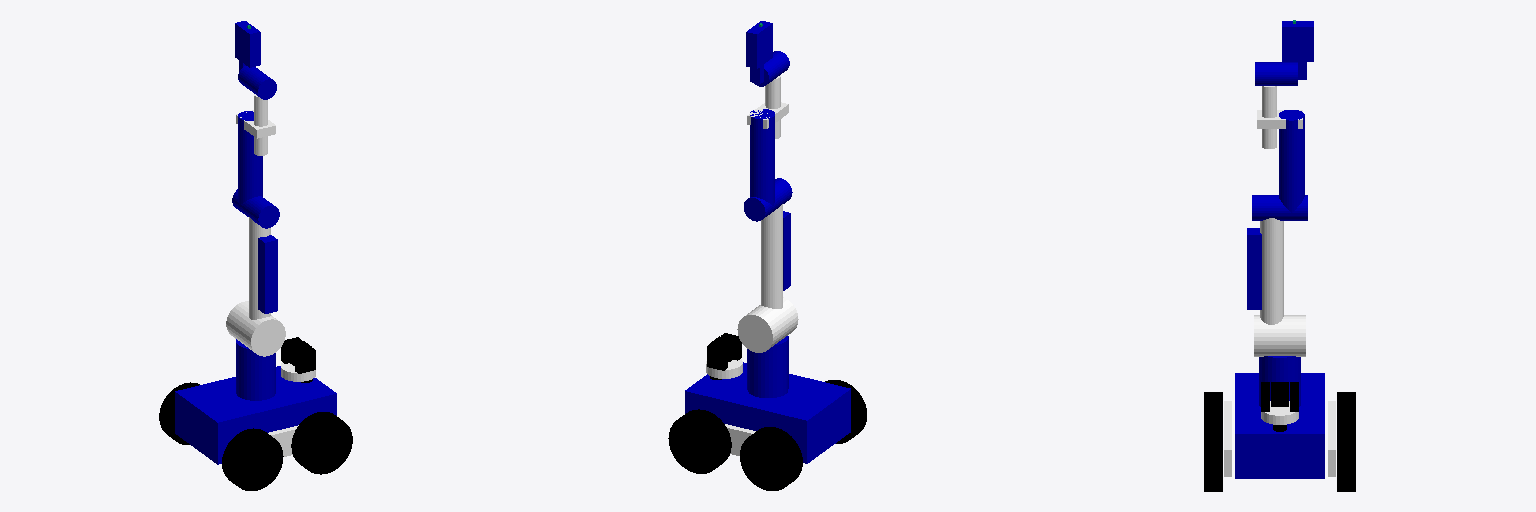
--- Facts derived from the render (not from the file) ---
Views: 3 orthographic renders of the robot side by side, from view 1: azimuth 30°, elevation 25°; view 2: azimuth 150°, elevation 25°; view 3: azimuth 270°, elevation 25°.
Model kv01 with 30 links and 29 joints (8 revolute, 21 fixed), rooted at base_footprint, posed every joint at zero.
Links seen in each view (by area): view 1: base_stabilized, wheel_pp, wheel_pz, model_klb1, model_klb0, link_2_3, menic1_2, link_1_2, menic4_5, model_klb2, link_3_4x, wheel_lz (+1 smaller); view 2: base_stabilized, wheel_lp, wheel_lz, link_2_3, model_klb1, link_1_2, model_klb0, menic4_5, model_klb2, wheel_pz, menic1_2, link_3_4x (+1 smaller); view 3: base_stabilized, link_2_3, link_1_2, model_klb1, menic4_5, wheel_lp, wheel_pp, menic1_2, model_klb0, model_klb2, link_3_4x, link_3_4 (+5 smaller).
Boxes of the visible links, bbox=[...] form: base_stabilized: bbox=[175, 366, 336, 464]; wheel_pp: bbox=[291, 412, 352, 474]; wheel_pz: bbox=[222, 428, 283, 490]; model_klb1: bbox=[226, 301, 285, 356]; model_klb0: bbox=[236, 339, 275, 400]; link_2_3: bbox=[238, 111, 262, 204]; menic1_2: bbox=[258, 235, 277, 313]; link_1_2: bbox=[249, 217, 270, 319]; menic4_5: bbox=[235, 21, 260, 67]; model_klb2: bbox=[232, 189, 279, 228]; link_3_4x: bbox=[238, 66, 276, 99]; wheel_lz: bbox=[159, 382, 199, 444]; base_stabilized: bbox=[685, 362, 850, 463]; wheel_lp: bbox=[668, 409, 731, 473]; wheel_lz: bbox=[740, 427, 802, 490]; link_2_3: bbox=[750, 109, 774, 205]; model_klb1: bbox=[737, 297, 798, 352]; link_1_2: bbox=[761, 204, 782, 308]; model_klb0: bbox=[747, 336, 788, 397]; menic4_5: bbox=[746, 21, 772, 68]; model_klb2: bbox=[744, 178, 792, 221]; wheel_pz: bbox=[825, 380, 866, 443]; menic1_2: bbox=[783, 211, 790, 290]; link_3_4x: bbox=[754, 51, 789, 86]; base_stabilized: bbox=[1235, 373, 1324, 478]; link_2_3: bbox=[1279, 110, 1304, 212]; link_1_2: bbox=[1260, 218, 1283, 324]; model_klb1: bbox=[1254, 315, 1305, 356]; menic4_5: bbox=[1282, 21, 1313, 61]; wheel_lp: bbox=[1337, 427, 1355, 491]; wheel_pp: bbox=[1204, 427, 1222, 491]; menic1_2: bbox=[1247, 228, 1261, 309]; model_klb0: bbox=[1259, 356, 1300, 406]; model_klb2: bbox=[1252, 195, 1307, 220]; link_3_4x: bbox=[1255, 62, 1297, 85]; link_3_4: bbox=[1262, 86, 1276, 148].
Size in the robot's own frame: 0.51 by 0.52 by 1.7 metres.
0 mesh visuals loaded from 1 distinct referenced files (none loaded); not drawn: 2 (reference not matched to a file when rendering).

The robot description file, URDF, robot "kv01":
<?xml version="1.0" ?>
<!-- =================================================================================== -->
<!-- |    This document was autogenerated by xacro from kv01.xacro                     | -->
<!-- |    EDITING THIS FILE BY HAND IS NOT RECOMMENDED                                 | -->
<!-- =================================================================================== -->
<!--> 
Vytvorenie base framu a celej zakladne
</!-->
<robot name="kv01" xmlns:controller="http://playerstage.sourceforge.net/gazebo/xmlschema/#controller" xmlns:interface="http://playerstage.sourceforge.net/gazebo/xmlschema/#interface" xmlns:sensor="http://playerstage.sourceforge.net/gazebo/xmlschema/#sensor" xmlns:xacro="http://www.ros.org/wiki/xacro">
  <package>
    <depend package="collada_urdf"/>
  </package>
  <material name="Black">
    <color rgba="0.0 0.0 0.0 1.0"/>
  </material>
  <material name="Blue">
    <color rgba="0.0 0.0 0.8 1.0"/>
  </material>
  <material name="Green">
    <color rgba="0.0 0.8 0.0 1.0"/>
  </material>
  <material name="Grey">
    <color rgba="0.2 0.2 0.2 1.0"/>
  </material>
  <material name="White">
    <color rgba="1.0 1.0 1.0 1.0"/>
  </material>
  <gazebo>
    <plugin filename="libgazebo_ros_control.so" name="gazebo_ros_control">
      <robotNamespace>/kv01</robotNamespace>
    </plugin>
  </gazebo>
  <gazebo reference="frame_to_world">
    <mu1>0.5</mu1>
    <mu2>0.5</mu2>
    <turnGravityOff>false</turnGravityOff>
    <material>Gazebo/Black</material>
  </gazebo>
  <gazebo reference="base_stabilized">
    <mu1>0.5</mu1>
    <mu2>0.5</mu2>
    <turnGravityOff>false</turnGravityOff>
    <material>Gazebo/Blue</material>
  </gazebo>
  <gazebo reference="scan">
    <mu1>0.5</mu1>
    <mu2>0.5</mu2>
    <turnGravityOff>false</turnGravityOff>
    <material>Gazebo/Black</material>
  </gazebo>
  <gazebo reference="camera_l">
    <mu1>0.5</mu1>
    <mu2>0.5</mu2>
    <turnGravityOff>false</turnGravityOff>
    <material>Gazebo/Black</material>
  </gazebo>
  <gazebo reference="camera_r">
    <mu1>0.5</mu1>
    <mu2>0.5</mu2>
    <turnGravityOff>false</turnGravityOff>
    <material>Gazebo/Black</material>
  </gazebo>
  <gazebo reference="camera">
    <mu1>0.5</mu1>
    <mu2>0.5</mu2>
    <turnGravityOff>false</turnGravityOff>
    <material>Gazebo/Black</material>
  </gazebo>
  <gazebo reference="veza">
    <mu1>0.5</mu1>
    <mu2>0.5</mu2>
    <turnGravityOff>false</turnGravityOff>
    <material>Gazebo/White</material>
  </gazebo>
  <gazebo reference="wheel_lp">
    <mu1>0.5</mu1>
    <mu2>0.5</mu2>
    <turnGravityOff>false</turnGravityOff>
    <material>Gazebo/Black</material>
  </gazebo>
  <gazebo reference="wheel_lz">
    <mu1>0.5</mu1>
    <mu2>0.5</mu2>
    <turnGravityOff>false</turnGravityOff>
    <material>Gazebo/Black</material>
  </gazebo>
  <gazebo reference="wheel_pp">
    <mu1>0.5</mu1>
    <mu2>0.5</mu2>
    <turnGravityOff>false</turnGravityOff>
    <material>Gazebo/Black</material>
  </gazebo>
  <gazebo reference="wheel_pz">
    <mu1>0.5</mu1>
    <mu2>0.5</mu2>
    <turnGravityOff>false</turnGravityOff>
    <material>Gazebo/Black</material>
  </gazebo>
  <!--> Gadzebo definicia ramena</!-->
  <gazebo reference="model_klb0">
    <mu1>0.5</mu1>
    <mu2>0.5</mu2>
    <turnGravityOff>false</turnGravityOff>
    <material>Gazebo/Blue</material>
  </gazebo>
  <gazebo reference="model_klb1">
    <mu1>0.5</mu1>
    <mu2>0.5</mu2>
    <turnGravityOff>false</turnGravityOff>
    <material>Gazebo/White</material>
  </gazebo>
  <gazebo reference="link_1_2">
    <mu1>0.5</mu1>
    <mu2>0.5</mu2>
    <turnGravityOff>false</turnGravityOff>
    <material>Gazebo/White</material>
  </gazebo>
  <gazebo reference="menic1_2">
    <mu1>0.5</mu1>
    <mu2>0.5</mu2>
    <turnGravityOff>false</turnGravityOff>
    <material>Gazebo/Blue</material>
  </gazebo>
  <gazebo reference="model_klb2">
    <mu1>0.5</mu1>
    <mu2>0.5</mu2>
    <turnGravityOff>false</turnGravityOff>
    <material>Gazebo/Blue</material>
  </gazebo>
  <gazebo reference="link_2_3">
    <mu1>0.5</mu1>
    <mu2>0.5</mu2>
    <turnGravityOff>false</turnGravityOff>
    <material>Gazebo/Blue</material>
  </gazebo>
  <gazebo reference="model_klb3">
    <mu1>0.5</mu1>
    <mu2>0.5</mu2>
    <turnGravityOff>false</turnGravityOff>
    <material>Gazebo/Blue</material>
  </gazebo>
  <gazebo reference="link_3_4">
    <mu1>0.5</mu1>
    <mu2>0.5</mu2>
    <turnGravityOff>false</turnGravityOff>
    <material>Gazebo/White</material>
  </gazebo>
  <gazebo reference="link_3_4x">
    <mu1>0.5</mu1>
    <mu2>0.5</mu2>
    <turnGravityOff>false</turnGravityOff>
    <material>Gazebo/Blue</material>
  </gazebo>
  <gazebo reference="model_klb4">
    <mu1>0.5</mu1>
    <mu2>0.5</mu2>
    <turnGravityOff>false</turnGravityOff>
    <material>Gazebo/Blue</material>
  </gazebo>
  <gazebo reference="menic4_5">
    <mu1>0.5</mu1>
    <mu2>0.5</mu2>
    <turnGravityOff>false</turnGravityOff>
    <material>Gazebo/Blue</material>
  </gazebo>
  <gadzebo reference="camera_r_to_camera">
    <erp>0.1</erp>
    <stopKd value="1000000.0"/>
    <stopKp value="10000.0"/>
    <fudgeFactor value="0.3"/>
    <implicitSpringDamper>true</implicitSpringDamper>
  </gadzebo>
  <gadzebo reference="scan_to_veza">
    <erp>0.1</erp>
    <stopKd value="1000000.0"/>
    <stopKp value="10000.0"/>
    <fudgeFactor value="0.3"/>
    <implicitSpringDamper>true</implicitSpringDamper>
  </gadzebo>
  <gadzebo reference="klb0">
    <erp>0.1</erp>
    <stopKd value="1000000.0"/>
    <stopKp value="10000.0"/>
    <fudgeFactor value="0.3"/>
    <implicitSpringDamper>true</implicitSpringDamper>
  </gadzebo>
  <gadzebo reference="klb1">
    <erp>0.1</erp>
    <stopKd value="1000000.0"/>
    <stopKp value="10000.0"/>
    <fudgeFactor value="0.3"/>
    <implicitSpringDamper>true</implicitSpringDamper>
  </gadzebo>
  <gadzebo reference="klb2">
    <erp>0.1</erp>
    <stopKd value="1000000.0"/>
    <stopKp value="10000.0"/>
    <fudgeFactor value="0.3"/>
    <implicitSpringDamper>true</implicitSpringDamper>
  </gadzebo>
  <gadzebo reference="klb3">
    <erp>0.1</erp>
    <stopKd value="1000000.0"/>
    <stopKp value="10000.0"/>
    <fudgeFactor value="0.3"/>
    <implicitSpringDamper>true</implicitSpringDamper>
  </gadzebo>
  <gadzebo reference="klb4">
    <erp>0.1</erp>
    <stopKd value="1000000.0"/>
    <stopKp value="10000.0"/>
    <fudgeFactor value="0.3"/>
    <implicitSpringDamper>true</implicitSpringDamper>
  </gadzebo>
  <gadzebo reference="klb5">
    <erp>0.1</erp>
    <stopKd value="1000000.0"/>
    <stopKp value="10000.0"/>
    <fudgeFactor value="0.3"/>
    <implicitSpringDamper>true</implicitSpringDamper>
  </gadzebo>
  <link name="base_footprint">
    <origin xyz="0 0 0"/>
  </link>
  <joint name="footprint_to_base" type="fixed">
    <origin xyz="0 0 0.13"/>
    <parent link="base_footprint"/>
    <child link="base_link"/>
  </joint>
  <link name="base_link"/>
  <joint name="base_to_stabilizer" type="fixed">
    <origin xyz="0 0 0"/>
    <parent link="base_link"/>
    <child link="base_stabilized"/>
  </joint>
  <link name="base_stabilized">
    <visual>
      <geometry>
        <box size="0.5 .31 .168"/>
      </geometry>
      <origin xyz="0 0 0"/>
      <material name="modra">
        <color rgba="0 0 0.8 1"/>
      </material>
    </visual>
    <inertial>
      <mass value="10"/>
      <inertia ixx="0.1" ixy="0.0" ixz="0.0" iyy="0.1" iyz="0.0" izz="0.1"/>
    </inertial>
    <collision>
      <geometry>
        <box size="0.5 .31 .30"/>
      </geometry>
      <origin xyz="0 0 0.08"/>
    </collision>
  </link>
  <joint name="stabilizer_to_imu" type="fixed">
    <origin xyz="-0.1 0.1 -0.01"/>
    <parent link="base_stabilized"/>
    <child link="imu"/>
  </joint>
  <link name="imu"/>
  <link name="laser">
    <visual>
      <geometry>
        <cylinder length="0.03" radius="0.025"/>
      </geometry>
      <material name="cierna">
        <color rgba="0 0 0 1"/>
      </material>
    </visual>
    <inertial>
      <mass value="0.1"/>
      <inertia ixx="0.1" ixy="0.0" ixz="0.0" iyy="0.1" iyz="0.0" izz="0.1"/>
    </inertial>
  </link>
  <joint name="base_to_scan" type="fixed">
    <parent link="base_stabilized"/>
    <child link="laser"/>
    <origin xyz="0.2075 0 0.095"/>
  </joint>
  <link name="veza">
    <visual>
      <geometry>
        <cylinder length="0.035" radius="0.065"/>
      </geometry>
      <material name="biela">
        <color rgba="1 1 1 1"/>
      </material>
    </visual>
    <inertial>
      <mass value="0.3"/>
      <inertia ixx="0.1" ixy="0.0" ixz="0.0" iyy="0.1" iyz="0.0" izz="0.1"/>
    </inertial>
  </link>
  <joint name="scan_to_veza" type="revolute">
    <parent link="laser"/>
    <child link="veza"/>
    <origin xyz="-0.03 0 0.0375"/>
    <axis xyz="0 0 1"/>
    <limit effort="30.0" lower="-2.09439" upper="3.14159" velocity="0.5"/>
  </joint>
  <link name="camera_l">
    <visual>
      <geometry>
        <box size="0.07 .03 .08"/>
      </geometry>
      <material name="cierna"/>
    </visual>
    <inertial>
      <mass value="0.1"/>
      <inertia ixx="0.1" ixy="0.0" ixz="0.0" iyy="0.1" iyz="0.0" izz="0.1"/>
    </inertial>
  </link>
  <joint name="veza_to_camera_l" type="fixed">
    <parent link="veza"/>
    <child link="camera_l"/>
    <origin xyz="0 0.05 0.0575"/>
  </joint>
  <link name="camera_r">
    <visual>
      <geometry>
        <box size="0.07 .03 .08"/>
      </geometry>
      <material name="cierna"/>
    </visual>
    <inertial>
      <mass value="0.1"/>
      <inertia ixx="0.1" ixy="0.0" ixz="0.0" iyy="0.1" iyz="0.0" izz="0.1"/>
    </inertial>
  </link>
  <joint name="veza_to_camera_r" type="fixed">
    <parent link="veza"/>
    <child link="camera_r"/>
    <origin xyz="0 -0.05 0.0575"/>
  </joint>
  <link name="camera">
    <visual>
      <geometry>
        <box size="0.075 .06 .06"/>
      </geometry>
      <material name="cierna"/>
    </visual>
    <inertial>
      <mass value="0.4"/>
      <inertia ixx="0.1" ixy="0.0" ixz="0.0" iyy="0.1" iyz="0.0" izz="0.1"/>
    </inertial>
  </link>
  <joint name="camera_r_to_camera" type="revolute">
    <limit effort="30.0" lower="-0.523598" upper="1.570795" velocity="0.5"/>
    <parent link="camera_r"/>
    <child link="camera"/>
    <origin rpy=" 1.570795 0 0" xyz="0 0.05 0.01"/>
    <axis xyz="0 0 1"/>
  </joint>
  <link name="wheel_frame_l">
    <visual>
      <geometry>
        <box size="0.4 .025 .1"/>
      </geometry>
      <material name="biela"/>
    </visual>
    <inertial>
      <mass value="1.3"/>
      <inertia ixx="0.1" ixy="0.0" ixz="0.0" iyy="0.1" iyz="0.0" izz="0.1"/>
    </inertial>
  </link>
  <joint name="base_link_to_wheel_frame_l" type="fixed">
    <parent link="base_stabilized"/>
    <child link="wheel_frame_l"/>
    <origin xyz="0 +0.1775 -0.05"/>
    <axis xyz="0 1 0"/>
  </joint>
  <link name="wheel_frame_r">
    <visual>
      <geometry>
        <box size="0.4 .025 .1"/>
      </geometry>
      <material name="biela"/>
    </visual>
    <inertial>
      <mass value="1.3"/>
      <inertia ixx="0.1" ixy="0.0" ixz="0.0" iyy="0.1" iyz="0.0" izz="0.1"/>
    </inertial>
  </link>
  <joint name="base_link_to_wheel_frame_r" type="fixed">
    <parent link="base_stabilized"/>
    <child link="wheel_frame_r"/>
    <origin xyz="0 -0.1775 -0.05"/>
    <axis xyz="0 1 0"/>
  </joint>
  <link name="wheel_lp">
    <visual>
      <geometry>
        <cylinder length="0.065" radius="0.11"/>
      </geometry>
      <material name="cierna"/>
    </visual>
    <inertial>
      <mass value="0.5"/>
      <inertia ixx="0.1" ixy="0.0" ixz="0.0" iyy="0.1" iyz="0.0" izz="0.1"/>
    </inertial>
    <collision>
      <geometry>
        <cylinder length="0.065" radius="0.11"/>
      </geometry>
    </collision>
  </link>
  <joint name="wheel_frame_l_to_wheel_lp" type="fixed">
    <parent link="wheel_frame_l"/>
    <child link="wheel_lp"/>
    <origin rpy=" 1.570795 0 0" xyz="0.145 0.05 -0.01"/>
    <axis xyz="0 0 1"/>
  </joint>
  <link name="wheel_lz">
    <visual>
      <geometry>
        <cylinder length="0.065" radius="0.11"/>
      </geometry>
      <material name="cierna"/>
    </visual>
    <inertial>
      <mass value="0.5"/>
      <inertia ixx="0.1" ixy="0.0" ixz="0.0" iyy="0.1" iyz="0.0" izz="0.1"/>
    </inertial>
    <collision>
      <geometry>
        <cylinder length="0.065" radius="0.11"/>
      </geometry>
    </collision>
  </link>
  <joint name="wheel_frame_l_to_wheel_lz" type="fixed">
    <parent link="wheel_frame_l"/>
    <child link="wheel_lz"/>
    <origin rpy=" 1.570795 0 0" xyz="-0.145 0.05 -0.01"/>
    <axis xyz="0 0 1"/>
  </joint>
  <link name="wheel_pp">
    <visual>
      <geometry>
        <cylinder length="0.065" radius="0.11"/>
      </geometry>
      <material name="cierna"/>
    </visual>
    <inertial>
      <mass value="0.5"/>
      <inertia ixx="0.1" ixy="0.0" ixz="0.0" iyy="0.1" iyz="0.0" izz="0.1"/>
    </inertial>
    <collision>
      <geometry>
        <cylinder length="0.065" radius="0.11"/>
      </geometry>
    </collision>
  </link>
  <joint name="wheel_frame_r_to_wheel_pp" type="fixed">
    <parent link="wheel_frame_r"/>
    <child link="wheel_pp"/>
    <origin rpy=" 1.570795 0 0" xyz="0.145 -0.05 -0.01"/>
    <axis xyz="0 0 1"/>
  </joint>
  <link name="wheel_pz">
    <visual>
      <geometry>
        <cylinder length="0.065" radius="0.11"/>
      </geometry>
      <material name="cierna"/>
    </visual>
    <inertial>
      <mass value="0.5"/>
      <inertia ixx="0.1" ixy="0.0" ixz="0.0" iyy="0.1" iyz="0.0" izz="0.1"/>
    </inertial>
    <collision>
      <geometry>
        <cylinder length="0.065" radius="0.11"/>
      </geometry>
    </collision>
  </link>
  <joint name="wheel_frame_r_to_wheel_pz" type="fixed">
    <parent link="wheel_frame_r"/>
    <child link="wheel_pz"/>
    <origin rpy=" 1.570795 0 0" xyz="-0.145 -0.05 -0.01"/>
    <axis xyz="0 0 1"/>
  </joint>
  <!--> 
Cast ramena pripojena k podvozku nadvazuje na base frame zakladne ... obmedzenia klbov aj linkou su predimenzovane klby su znizene pohybovo o 15 stupnov
</!-->
  <joint name="klb0" type="revolute">
    <limit effort="50" lower="-1.75" upper="1.75" velocity="0.2"/>
    <parent link="base_stabilized"/>
    <child link="model_klb0"/>
    <origin rpy="0 0 0" xyz="0 0 .08"/>
    <axis xyz="0 0 1"/>
    <dynamics damping="1" fricction="1"/>
  </joint>
  <link name="model_klb0">
    <visual>
      <geometry>
        <cylinder length="0.258" radius="0.0725"/>
      </geometry>
      <material name="modra"/>
      <origin rpy="0 0 0" xyz="0 0 0.08"/>
    </visual>
    <inertial>
      <mass value="0.8"/>
      <inertia ixx="1" ixy="0.0" ixz="0.0" iyy="1" iyz="0.0" izz="1"/>
    </inertial>
  </link>
  <joint name="klb1" type="revolute">
    <limit effort="100" lower="-1.4" upper="1.4" velocity="0.2"/>
    <parent link="model_klb0"/>
    <child link="model_klb1"/>
    <origin rpy="1.570795 0 0" xyz="0 0 .258"/>
    <axis xyz="0 0 -1"/>
    <dynamics damping="1" fricction="1"/>
  </joint>
  <link name="model_klb1">
    <visual>
      <geometry>
        <cylinder length="0.180" radius="0.0725"/>
      </geometry>
      <material name="biela"/>
      <origin rpy="0 0 0" xyz="0 0 0"/>
    </visual>
    <collision>
      <geometry>
        <cylinder length="0.180" radius="0.0725"/>
      </geometry>
      <origin rpy="0 0 0" xyz="0 0 0"/>
    </collision>
    <inertial>
      <mass value="0.8"/>
      <inertia ixx="1" ixy="0.0" ixz="0.0" iyy="1" iyz="0.0" izz="1"/>
    </inertial>
  </link>
  <joint name="spoj_klb1_klb2" type="fixed">
    <parent link="model_klb1"/>
    <child link="link_1_2"/>
    <origin rpy="-1.570795 0 0" xyz="0 0.2425 0.028"/>
  </joint>
  <link name="link_1_2">
    <visual>
      <geometry>
        <cylinder length="0.485" radius="0.040"/>
      </geometry>
      <material name="biela"/>
      <origin rpy="0 0 0" xyz="0 0 0"/>
    </visual>
    <collision>
      <geometry>
        <cylinder length="0.330" radius="0.070"/>
      </geometry>
      <origin rpy="0 0 0" xyz="0 -0.025 0.01"/>
    </collision>
    <inertial>
      <mass value="0.8"/>
      <inertia ixx="0.1" ixy="0.0" ixz="0.0" iyy="0.1" iyz="0.0" izz="0.1"/>
    </inertial>
  </link>
  <joint name="spoj_klb1_klb2_menic" type="fixed">
    <parent link="model_klb1"/>
    <child link="menic1_2"/>
    <origin rpy="-1.570795 0 0" xyz="0 0.2425 0.088"/>
  </joint>
  <link name="menic1_2">
    <visual>
      <geometry>
        <box size="0.055 0.050 .285"/>
      </geometry>
      <material name="modra"/>
      <origin rpy="0 0 0" xyz="0 0 0.010"/>
    </visual>
    <inertial>
      <mass value="0.4"/>
      <inertia ixx="0.1" ixy="0.0" ixz="0.0" iyy="0.1" iyz="0.0" izz="0.1"/>
    </inertial>
  </link>
  <joint name="klb2" type="revolute">
    <limit effort="50" lower="-2.01" upper="2.01" velocity="0.3"/>
    <parent link="model_klb1"/>
    <child link="model_klb2"/>
    <origin rpy="0 0 0" xyz="0 0.485 0"/>
    <axis xyz="0 0 1"/>
    <dynamics damping="1" fricction="1"/>
  </joint>
  <link name="model_klb2">
    <visual>
      <geometry>
        <cylinder length="0.190" radius="0.045"/>
      </geometry>
      <material name="modra"/>
      <origin rpy="0 0 0" xyz="0 0 0"/>
    </visual>
    <collision>
      <geometry>
        <cylinder length="0.195" radius="0.050"/>
      </geometry>
      <origin rpy="0 0 0" xyz="0 0 0"/>
    </collision>
    <inertial>
      <mass value="0.45"/>
      <inertia ixx="1" ixy="0.0" ixz="0.0" iyy="1" iyz="0.0" izz="1"/>
    </inertial>
  </link>
  <joint name="spoj_klb2_klb3" type="fixed">
    <parent link="model_klb2"/>
    <child link="link_2_3"/>
    <origin rpy="-1.570795 0 0" xyz="0 0 -0.040"/>
  </joint>
  <link name="link_2_3">
    <visual>
      <geometry>
        <cylinder length="0.350" radius="0.045"/>
      </geometry>
      <material name="modra"/>
      <origin rpy="0 0 0" xyz="0. 0 0.175"/>
    </visual>
    <collision>
      <geometry>
        <cylinder length="0.155" radius="0.045"/>
      </geometry>
      <origin rpy="0 0 0" xyz="0.015 0 0.135"/>
    </collision>
    <inertial>
      <mass value="0.6"/>
      <inertia ixx="0.1" ixy="0.0" ixz="0.0" iyy="0.1" iyz="0.0" izz="0.1"/>
    </inertial>
  </link>
  <joint name="klb3" type="revolute">
    <limit effort="50" lower="-3.14" upper="3.14" velocity="0.2"/>
    <parent link="model_klb2"/>
    <child link="model_klb3"/>
    <origin rpy="-1.570795 0 0" xyz="0 0.350 -0.040 "/>
    <axis xyz="0 0 -1"/>
    <dynamics damping="1" fricction="1"/>
  </joint>
  <link name="model_klb3">
    <visual>
      <geometry>
        <box size="0.080 .155 .035"/>
      </geometry>
      <material name="biela"/>
      <origin rpy="0 0 0" xyz="0 -0.040  -0.0175"/>
    </visual>
    <collision>
      <geometry>
        <cylinder length="0.120" radius="0.040"/>
      </geometry>
      <origin rpy=" 0 0 0" xyz="0 0 -0.055"/>
    </collision>
    <inertial>
      <mass value="0.2"/>
      <inertia ixx="1" ixy="0.0" ixz="0.0" iyy="1" iyz="0.0" izz="1"/>
    </inertial>
  </link>
  <joint name="spoj_klb4_klb5" type="fixed">
    <parent link="model_klb3"/>
    <child link="link_3_4"/>
    <origin rpy="3.14159 0 0" xyz="0 -0.076 0"/>
  </joint>
  <link name="link_3_4">
    <visual>
      <geometry>
        <cylinder length="0.2345" radius="0.027"/>
      </geometry>
      <material name="biela"/>
      <origin rpy="0 0 0" xyz="0 0 0"/>
    </visual>
    <collision>
      <geometry>
        <cylinder length="0.2335" radius="0.027"/>
      </geometry>
      <origin rpy="0 0 0" xyz="0 0 0.005"/>
    </collision>
    <inertial>
      <mass value="0.45"/>
      <inertia ixx="0.1" ixy="0.0" ixz="0.0" iyy="0.1" iyz="0.0" izz="0.1"/>
    </inertial>
  </link>
  <joint name="spoj_klb3_klb4x" type="fixed">
    <parent link="model_klb3"/>
    <child link="link_3_4x"/>
    <origin rpy="1.570795 0 0" xyz="0 -0.052 0.155"/>
  </joint>
  <link name="link_3_4x">
    <visual>
      <geometry>
        <cylinder length="0.145" radius="0.040"/>
      </geometry>
      <material name="modra"/>
      <origin rpy="0 0 0" xyz="0 0 0"/>
    </visual>
    <collision>
      <geometry>
        <cylinder length="0.145" radius="0.040"/>
      </geometry>
      <origin rpy="0 0 0" xyz="0 0 0"/>
    </collision>
    <inertial>
      <mass value="0.3"/>
      <inertia ixx="0.1" ixy="0.0" ixz="0.0" iyy="0.1" iyz="0.0" izz="0.1"/>
    </inertial>
  </link>
  <joint name="klb4" type="revolute">
    <limit effort="40" lower="-2.09" upper="2.09" velocity="0.2"/>
    <parent link="model_klb3"/>
    <child link="model_klb4"/>
    <origin rpy="1.570795 0 0" xyz="0 0.036 0.155"/>
    <axis xyz="0 0 1"/>
    <dynamics damping="1" fricction="1"/>
  </joint>
  <link name="model_klb4">
    <visual>
      <geometry>
        <box size="0.040 0.030 0.080"/>
      </geometry>
      <material name="modra"/>
      <origin rpy="-1.570795 0 0" xyz="0 0.025 0"/>
    </visual>
    <collision>
      <geometry>
        <box size="0.040 0.030 0.075"/>
      </geometry>
      <origin rpy="-1.570795 0 0" xyz="0 0 0"/>
    </collision>
    <inertial>
      <mass value="0.08"/>
      <inertia ixx="1" ixy="0.0" ixz="0.0" iyy="1" iyz="0.0" izz="1"/>
    </inertial>
  </link>
  <joint name="spoj_menic4_5_gripper" type="fixed">
    <parent link="model_klb4"/>
    <child link="menic4_5"/>
    <origin rpy="-1.570795 0 0" xyz="0 0.055 0.015 "/>
  </joint>
  <link name="menic4_5">
    <visual>
      <geometry>
        <box size="0.045 0.110 0.135"/>
      </geometry>
      <material name="modra"/>
      <origin rpy="0 0 0" xyz="0 0 0.0675"/>
    </visual>
    <collision>
      <geometry>
        <box size="0.045 0.110 0.135"/>
      </geometry>
      <origin rpy="0 0 0" xyz="0 0 0.0675"/>
    </collision>
    <inertial>
      <mass value="0.2"/>
      <inertia ixx="0.1" ixy="0.0" ixz="0.0" iyy="0.1" iyz="0.0" izz="0.1"/>
    </inertial>
  </link>
  <joint name="klb5" type="revolute">
    <limit effort="40" lower="-3.14" upper="3.14" velocity="0.2"/>
    <parent link="model_klb4"/>
    <child link="model_klb5"/>
    <origin rpy="-1.570795  0 0" xyz="0 0.190 0.025"/>
    <axis xyz="0 0 -1"/>
    <dynamics damping="1" fricction="1"/>
  </joint>
  <link name="model_klb5">
    <visual>
      <geometry>
        <box size="0.01 0.01 0.01"/>
      </geometry>
      <origin rpy="0 0 0" xyz="0 0 0.005"/>
    </visual>
    <collision>
      <geometry>
        <box size="0.030 0.165 0.135"/>
      </geometry>
      <origin rpy="0 0 0" xyz="0 0 0.070"/>
    </collision>
    <inertial>
      <mass value="0.2"/>
      <inertia ixx="0.1" ixy="0.0" ixz="0.0" iyy="0.1" iyz="0.0" izz="0.1"/>
    </inertial>
  </link>
  <joint name="uchopovacL" type="fixed">
    <parent link="model_klb5"/>
    <child link="uchopenie_lavo"/>
    <origin rpy="0 0 1.570795" xyz="0 0 0.02"/>
  </joint>
  <joint name="uchopovacR" type="fixed">
    <parent link="model_klb5"/>
    <child link="uchopenie_pravo"/>
    <origin rpy="0 0 1.570795" xyz="0 0 0.02"/>
  </joint>
  <joint name="centrum_uchopu" type="fixed">
    <parent link="model_klb5"/>
    <child link="gripper_end"/>
    <origin rpy="0 0 0" xyz="0 0 0.07"/>
  </joint>
  <link name="uchopenie_lavo">
    <visual>
      <geometry>
        <mesh filename="package://pr2_description/meshes/gripper_v0/l_finger.dae"/>
      </geometry>
      <origin rpy="1.570795 -1.570795 0"/>
    </visual>
    <inertial>
      <mass value="0.05"/>
      <inertia ixx="0.1" ixy="0.0" ixz="0.0" iyy="0.1" iyz="0.0" izz="0.1"/>
    </inertial>
  </link>
  <link name="uchopenie_pravo">
    <visual>
      <geometry>
        <mesh filename="package://pr2_description/meshes/gripper_v0/l_finger.dae"/>
      </geometry>
      <origin rpy="1.570795 -1.570795 3.14159"/>
    </visual>
    <inertial>
      <mass value="0.05"/>
      <inertia ixx="0.1" ixy="0.0" ixz="0.0" iyy="0.1" iyz="0.0" izz="0.1"/>
    </inertial>
  </link>
  <link name="gripper_end">
    <origin rpy="0 0 0" xyz="0 0 0"/>
  </link>
  <transmission name="tran1">
    <type>transmission_interface/SimpleTransmission</type>
    <joint name="klb0">
      <hardwareInterface>EffortJointInterface</hardwareInterface>
    </joint>
    <actuator name="motor1">
      <hardwareInterface>EffortJointInterface</hardwareInterface>
      <mechanicalReduction>3682</mechanicalReduction>
    </actuator>
  </transmission>
  <transmission name="tran2">
    <type>transmission_interface/SimpleTransmission</type>
    <joint name="klb1">
      <hardwareInterface>EffortJointInterface</hardwareInterface>
    </joint>
    <actuator name="motor2">
      <hardwareInterface>EffortJointInterface</hardwareInterface>
      <mechanicalReduction>2547</mechanicalReduction>
    </actuator>
  </transmission>
  <transmission name="tran3">
    <type>transmission_interface/SimpleTransmission</type>
    <joint name="klb2">
      <hardwareInterface>EffortJointInterface</hardwareInterface>
    </joint>
    <actuator name="motor3">
      <hardwareInterface>EffortJointInterface</hardwareInterface>
      <mechanicalReduction>8178</mechanicalReduction>
    </actuator>
  </transmission>
  <transmission name="tran4">
    <type>transmission_interface/SimpleTransmission</type>
    <joint name="klb3">
      <hardwareInterface>EffortJointInterface</hardwareInterface>
    </joint>
    <actuator name="motor4">
      <hardwareInterface>EffortJointInterface</hardwareInterface>
      <mechanicalReduction>6083.64</mechanicalReduction>
    </actuator>
  </transmission>
  <transmission name="tran5">
    <type>transmission_interface/SimpleTransmission</type>
    <joint name="klb4">
      <hardwareInterface>EffortJointInterface</hardwareInterface>
    </joint>
    <actuator name="motor5">
      <hardwareInterface>EffortJointInterface</hardwareInterface>
      <mechanicalReduction>6083.64</mechanicalReduction>
    </actuator>
  </transmission>
  <transmission name="tran6">
    <type>transmission_interface/SimpleTransmission</type>
    <joint name="klb5">
      <hardwareInterface>EffortJointInterface</hardwareInterface>
    </joint>
    <actuator name="motor6">
      <hardwareInterface>EffortJointInterface</hardwareInterface>
      <mechanicalReduction>6083.64</mechanicalReduction>
    </actuator>
  </transmission>
</robot>
